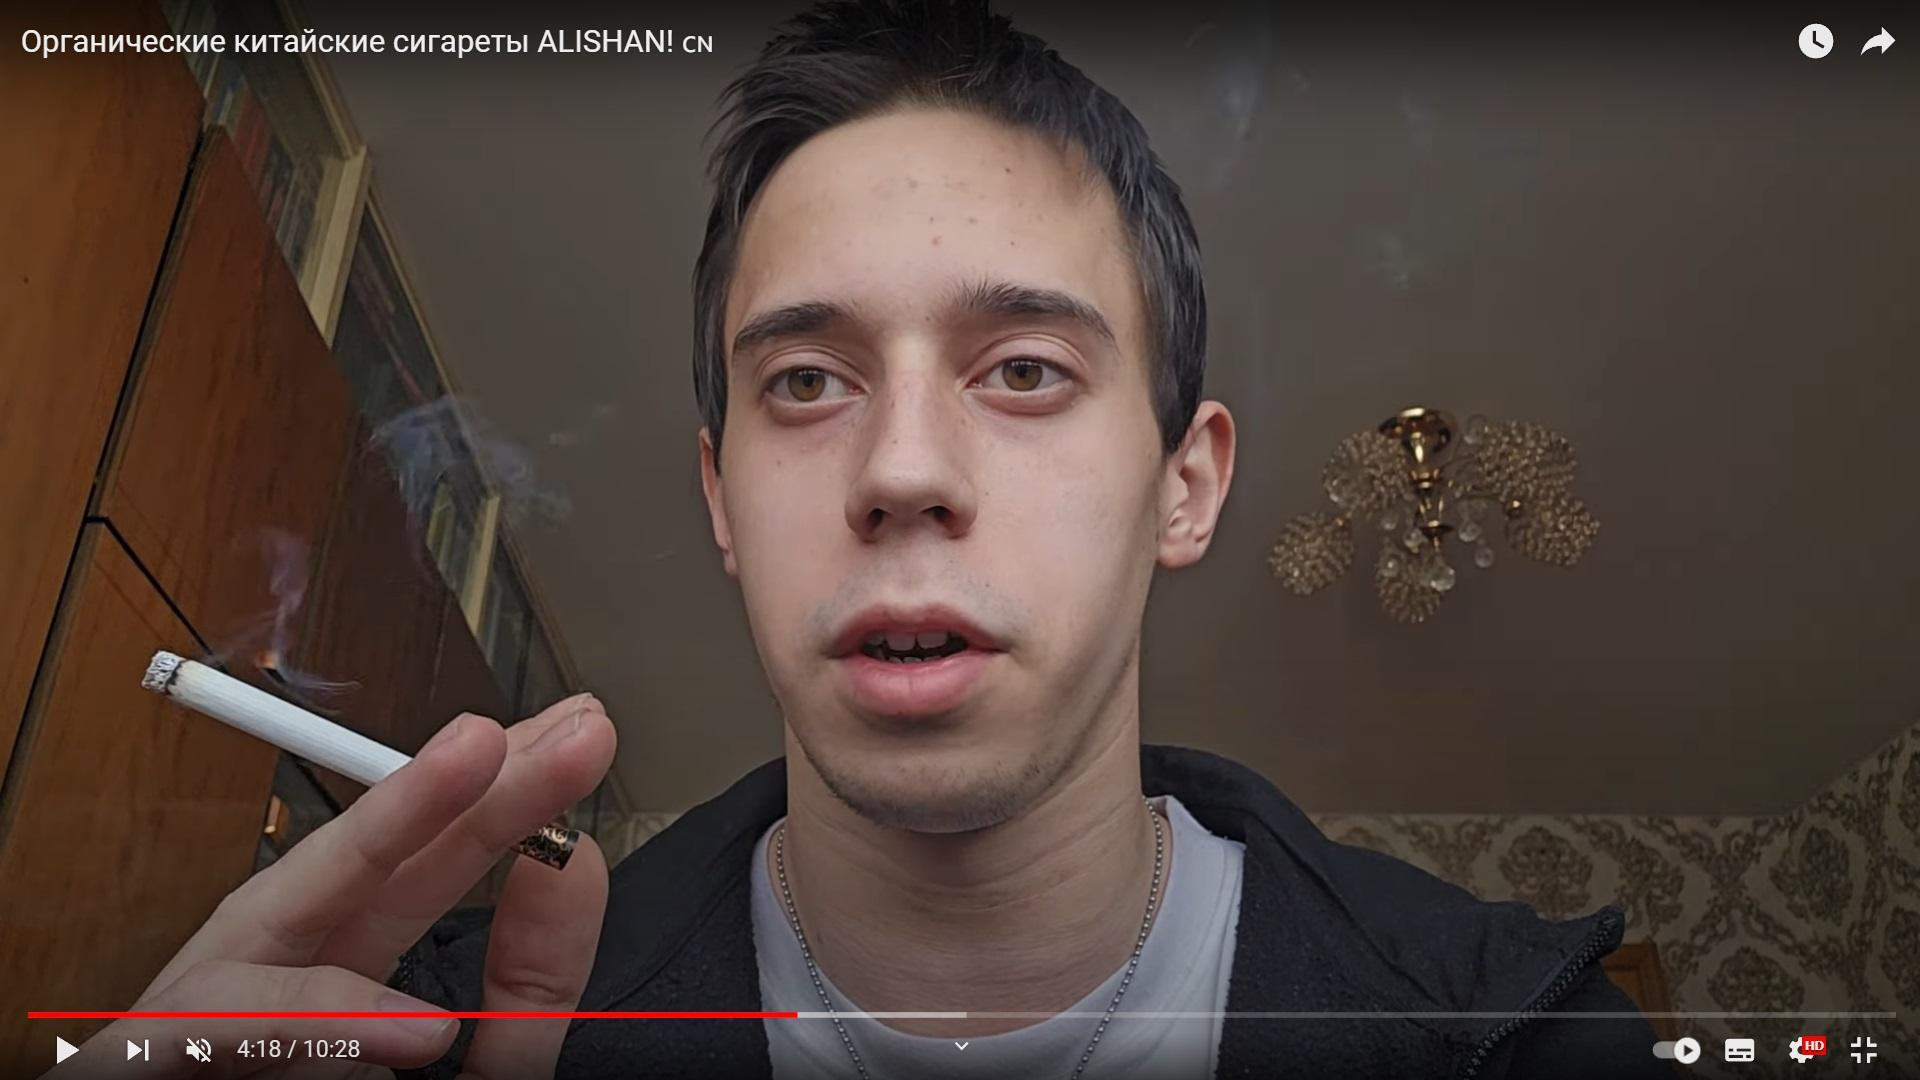cigarette: (146, 653, 580, 872)
